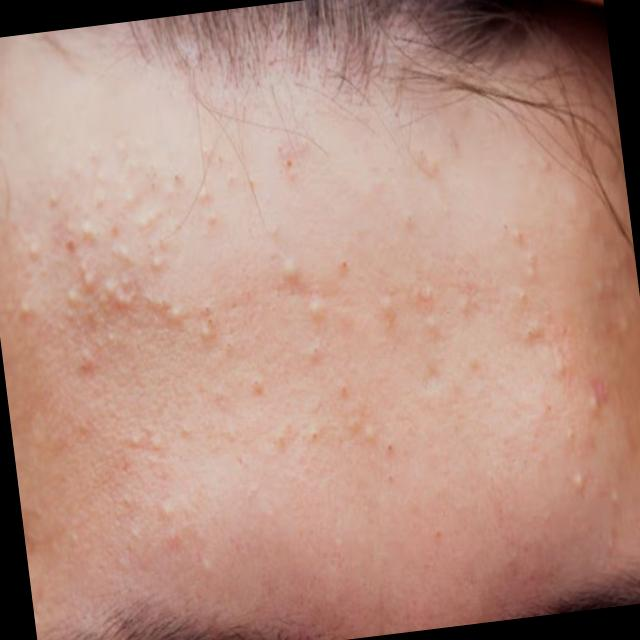fungal: (0, 141, 242, 588), (208, 202, 505, 502), (488, 188, 640, 547)
